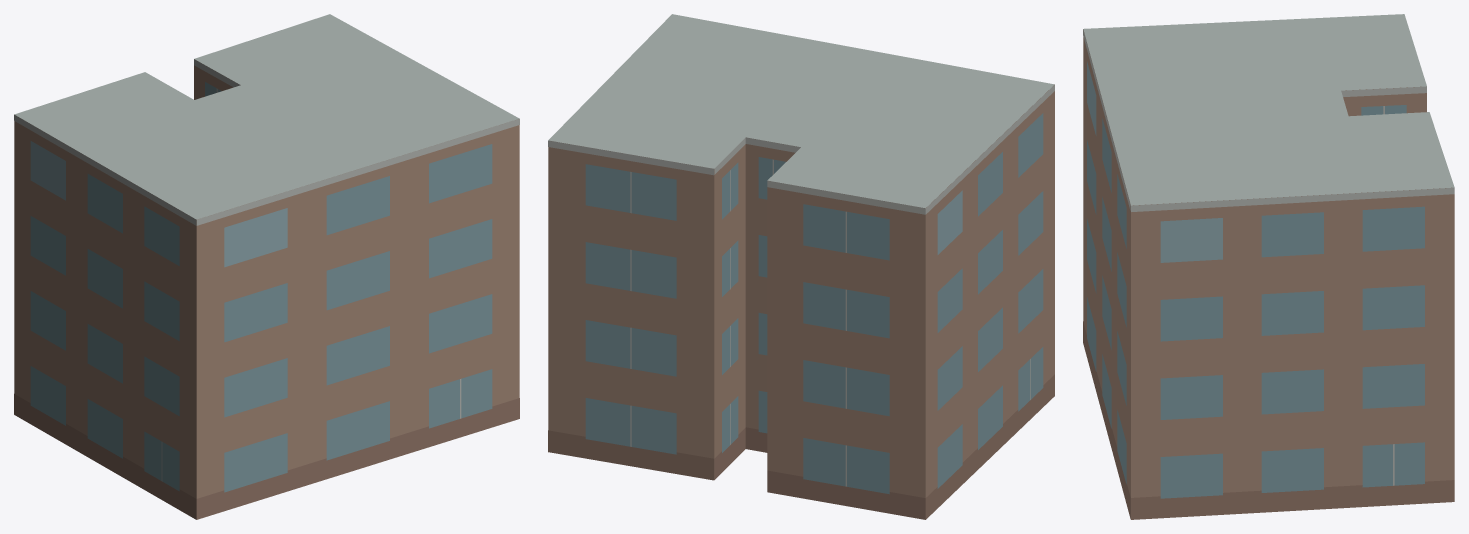
File: survey-upis-32561559.glb
3 views of the same model, side by side, from view 1: azimuth 30°, elevation 25°; view 2: azimuth 150°, elevation 25°; view 3: azimuth 270°, elevation 25° (orthographic). The views are drawn at different scales.
Visible parts, largest first — view 1: survey-upis-32561559.tmp; view 2: survey-upis-32561559.tmp; view 3: survey-upis-32561559.tmp.
Part boxes in pixels (x1=…): survey-upis-32561559.tmp: x1=14, y1=14, x2=519, y2=519; survey-upis-32561559.tmp: x1=548, y1=14, x2=1054, y2=519; survey-upis-32561559.tmp: x1=1083, y1=14, x2=1454, y2=519.
Size of the model in its own units: 15.17 by 11.6 by 12.43.
